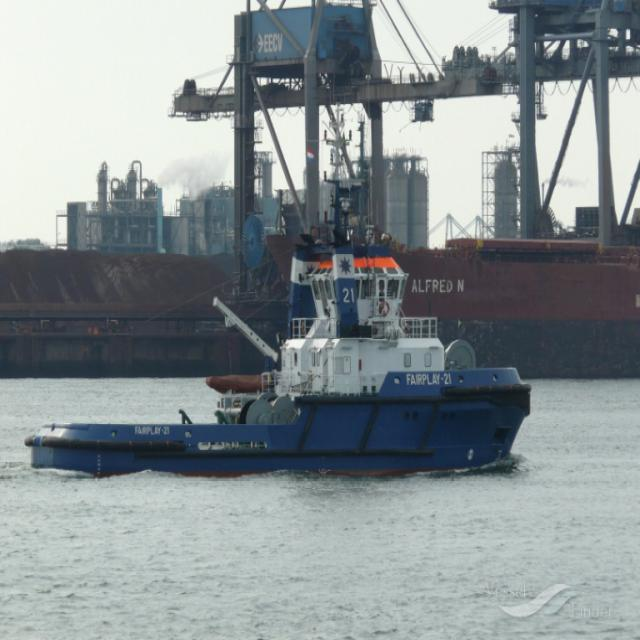tugboat: (26, 175, 530, 475)
